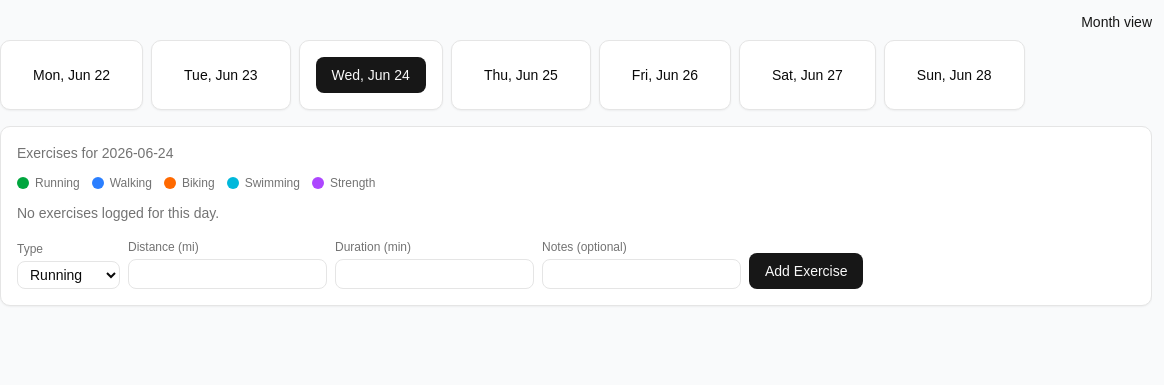
Test: ExerciseCalendarPage › submitting a strength exercise posts sets/reps and no distance
Expected: the text "No exercises logged for this day." is shown, [17,205,219,221]
Step 1. Select "Strength" in the dropdown labelled "Type" → (68, 275), box [17,261,120,289]
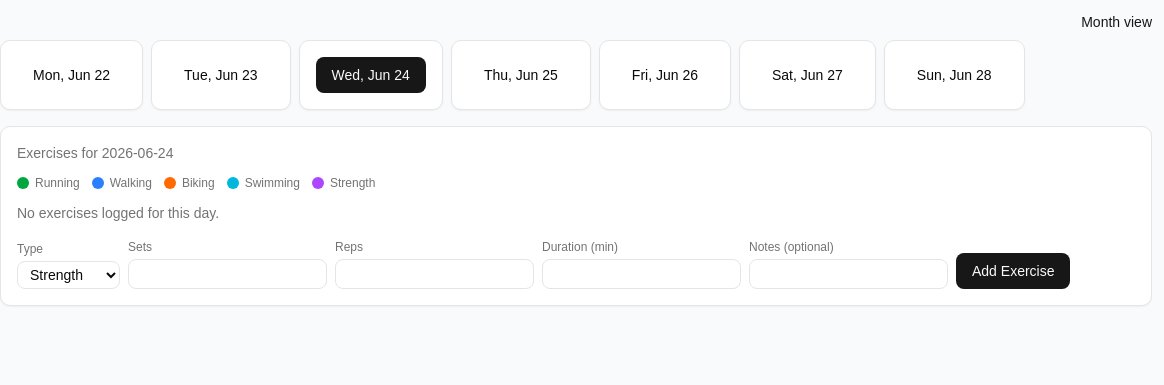
Expected: the label labelled "Distance (mi)" is gone
Step 2. Type "3" into the number field labelled "Sets" → (228, 274), box [128,259,327,289]
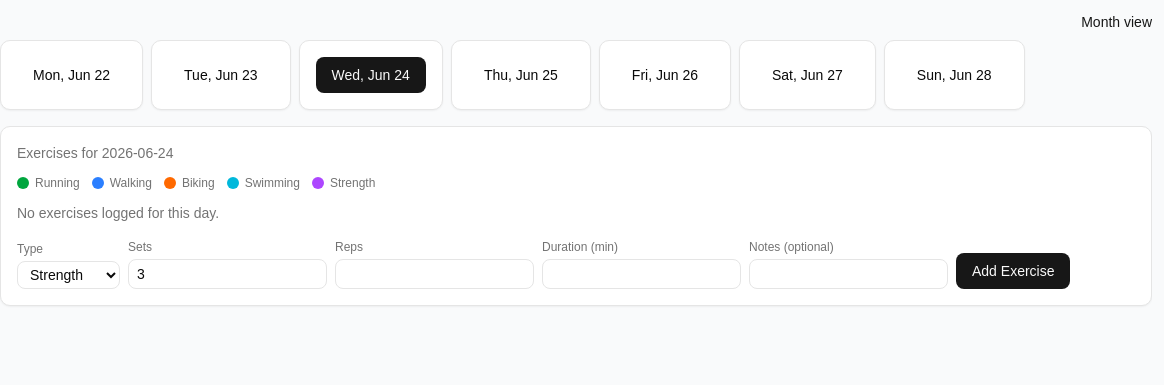
Step 3. Type "10" into the number field labelled "Reps" → (434, 274), box [335,259,534,289]
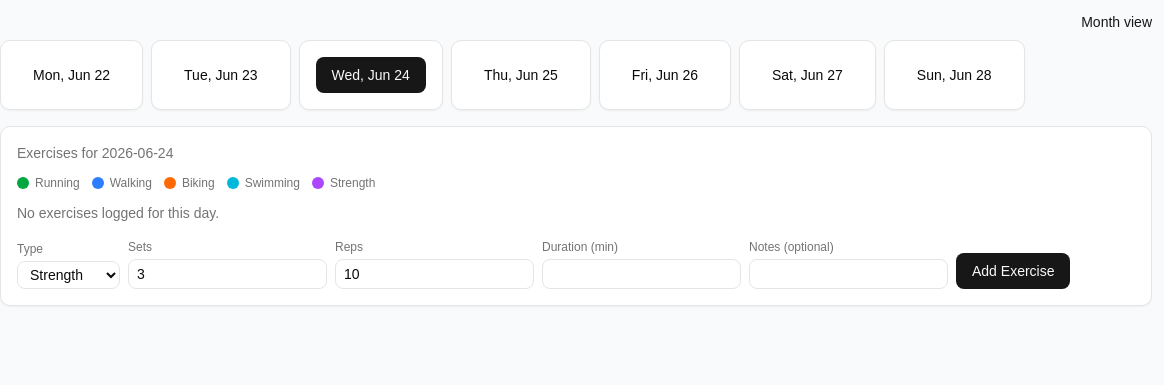
Step 4. Type "20" into the number field labelled "Duration (min)" → (642, 274), box [542,259,741,289]
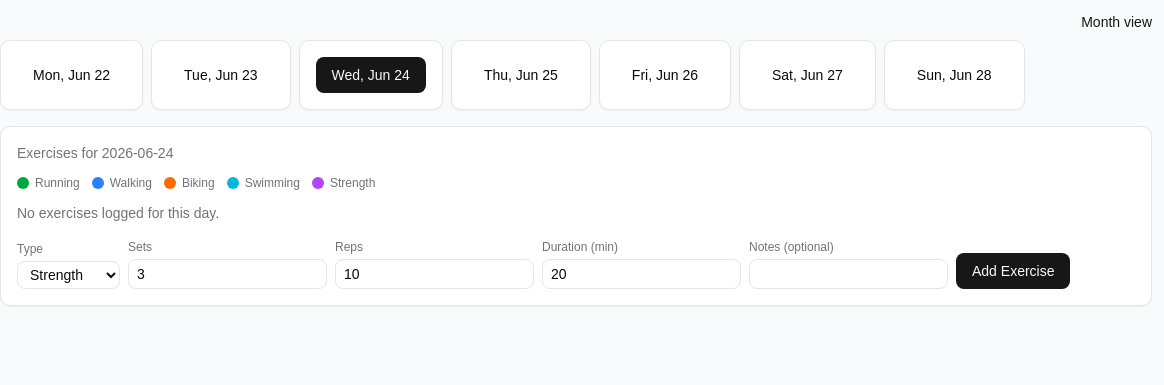
Step 5. Click the button "Add Exercise" → (1013, 271), box [956,253,1070,289]
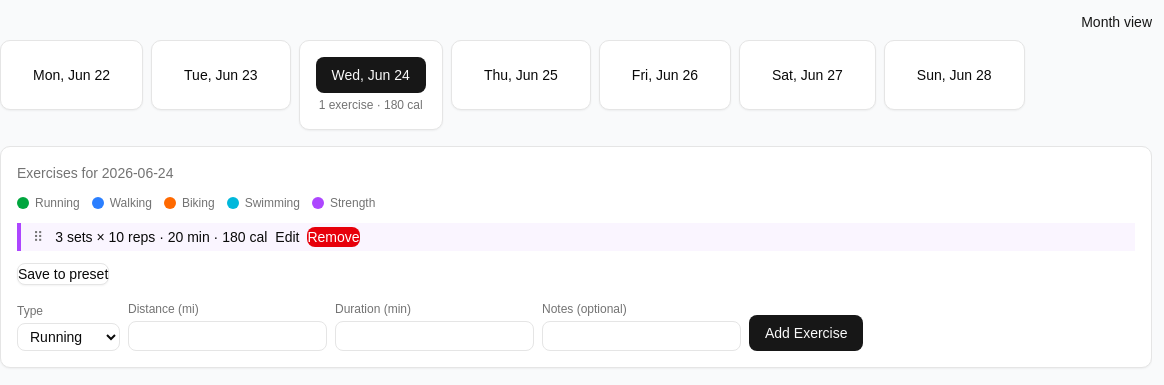
Expected: the text "3 sets × 10 reps · 20 min · 180 cal" is shown, [55,227,267,247]
